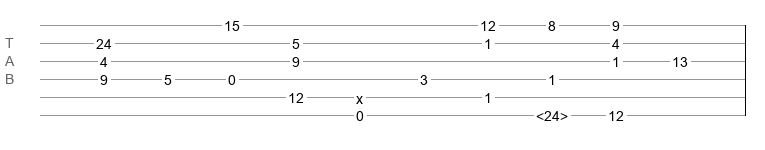0: (228, 72, 236, 82), (356, 108, 364, 118)
1: (484, 36, 492, 46), (484, 90, 492, 100), (548, 72, 556, 82), (612, 54, 620, 64)
12: (288, 90, 304, 100), (480, 18, 496, 28), (608, 108, 624, 118)
13: (672, 54, 688, 64)
15: (224, 18, 240, 28)
24: (96, 36, 112, 46)
3: (420, 72, 428, 82)
4: (100, 54, 108, 64), (612, 36, 620, 46)
5: (164, 72, 172, 82), (292, 36, 300, 46)
8: (548, 18, 556, 28)
9: (100, 72, 108, 82), (292, 54, 300, 64), (612, 18, 620, 28)
harmonic: (536, 108, 568, 118)
x: (356, 91, 363, 99)
